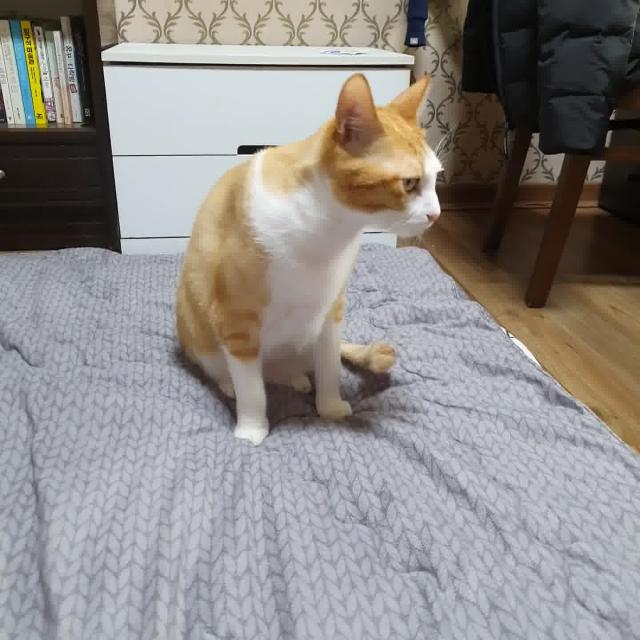cat: (169, 70, 450, 448)
